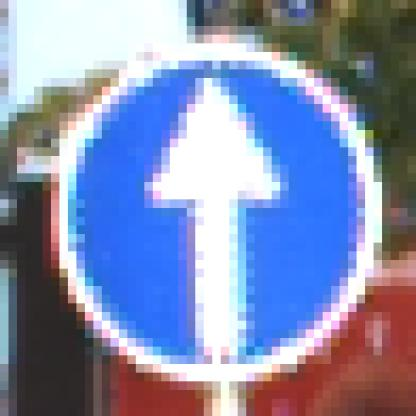AheadOnly: (52, 44, 374, 374)
